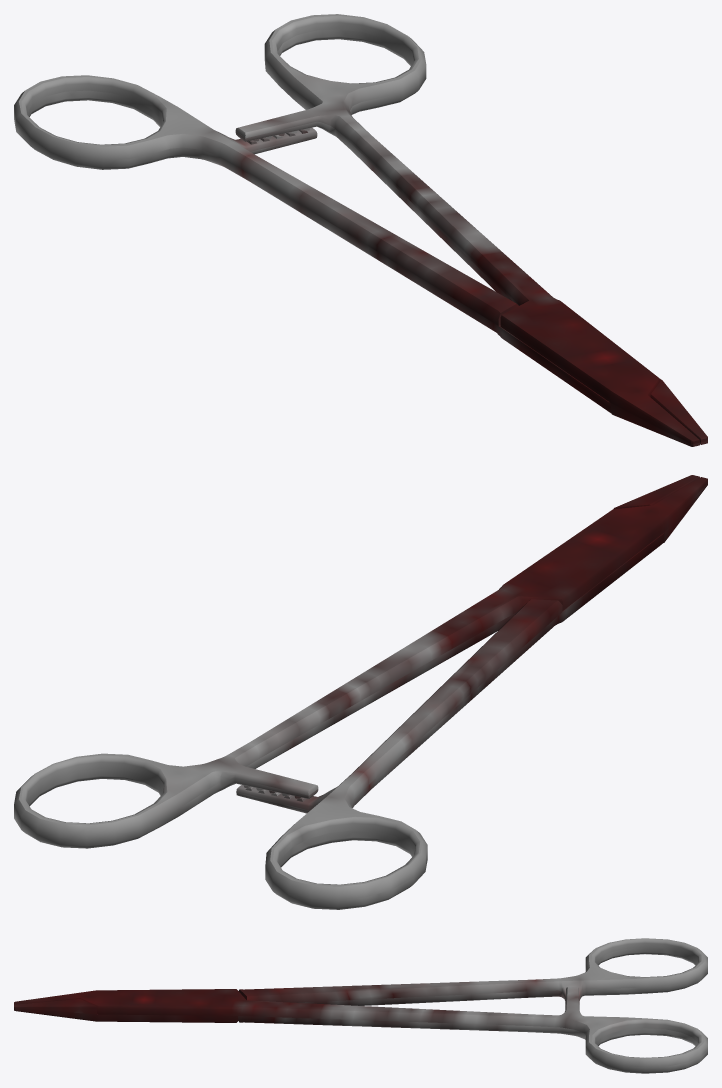
File: scissors.glb
3 renders of one model, top to bottom at view 1: azimuth 30°, elevation 25°; view 2: azimuth 150°, elevation 25°; view 3: azimuth 270°, elevation 25°, orthographic. The views are drawn at different scales.
Parts seen in each view (by area): view 1: needle_forceps_p1, needle_forceps_p2; view 2: needle_forceps_p1, needle_forceps_p2; view 3: needle_forceps_p1, needle_forceps_p2.
Part boxes in pixels (x1,y1,x2,y2): needle_forceps_p1: (235, 14, 699, 446); needle_forceps_p2: (14, 75, 707, 444); needle_forceps_p1: (14, 477, 707, 848); needle_forceps_p2: (236, 475, 699, 909); needle_forceps_p1: (14, 987, 707, 1073); needle_forceps_p2: (14, 938, 707, 1022).
Size of the model in its own units: 3.65 by 0.211 by 8.7.
1 material, 1 textured.
